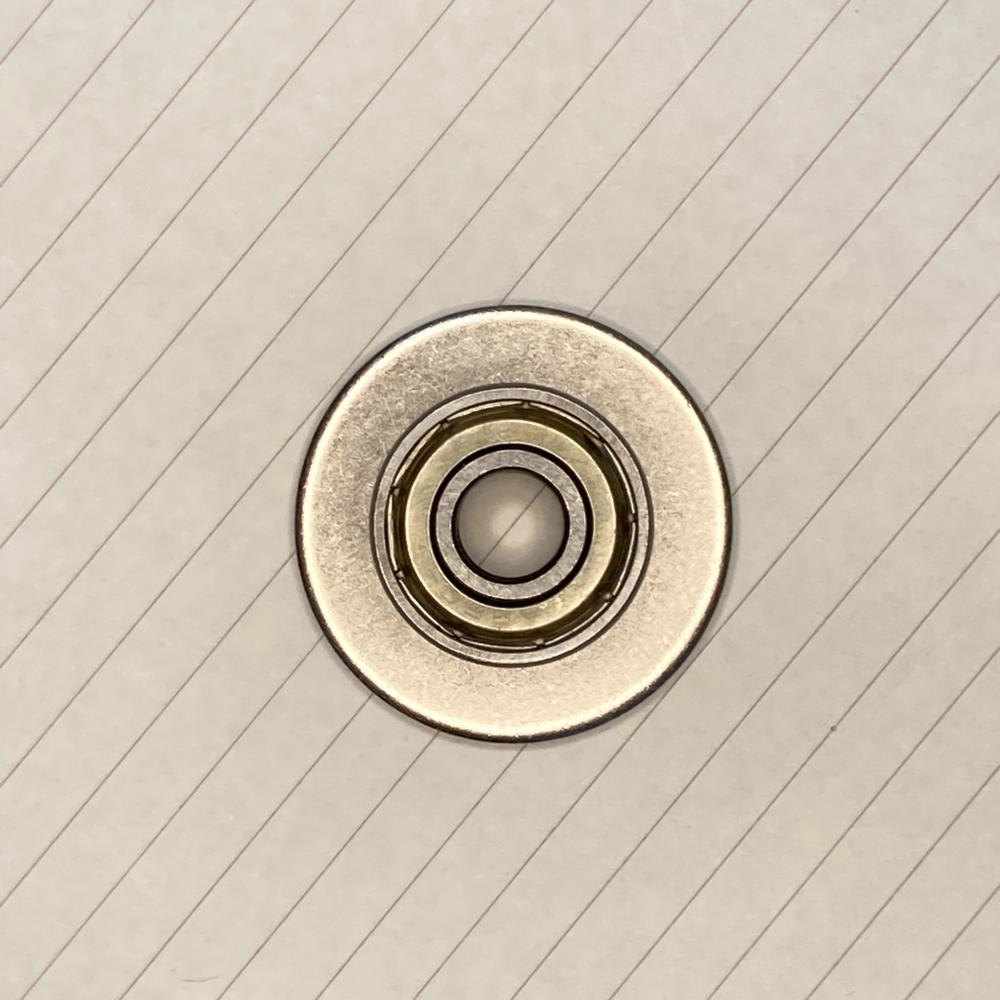ball_bearing: (369, 381, 657, 669)
